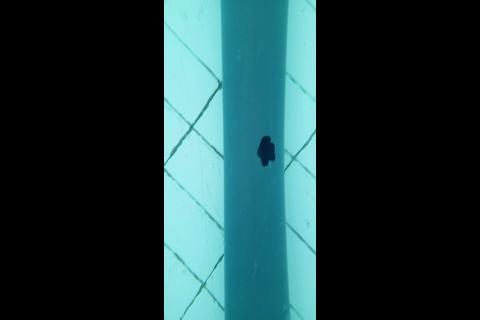kebocoran: (256, 134, 277, 166)
